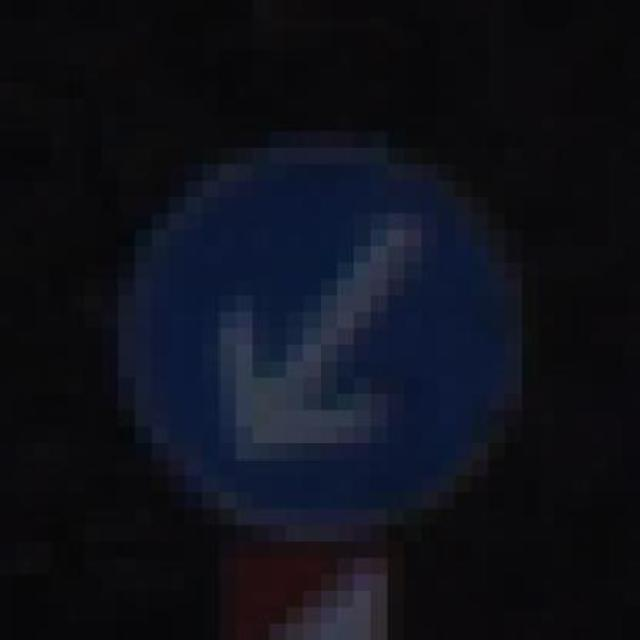Keep-Left: (101, 115, 539, 542)
